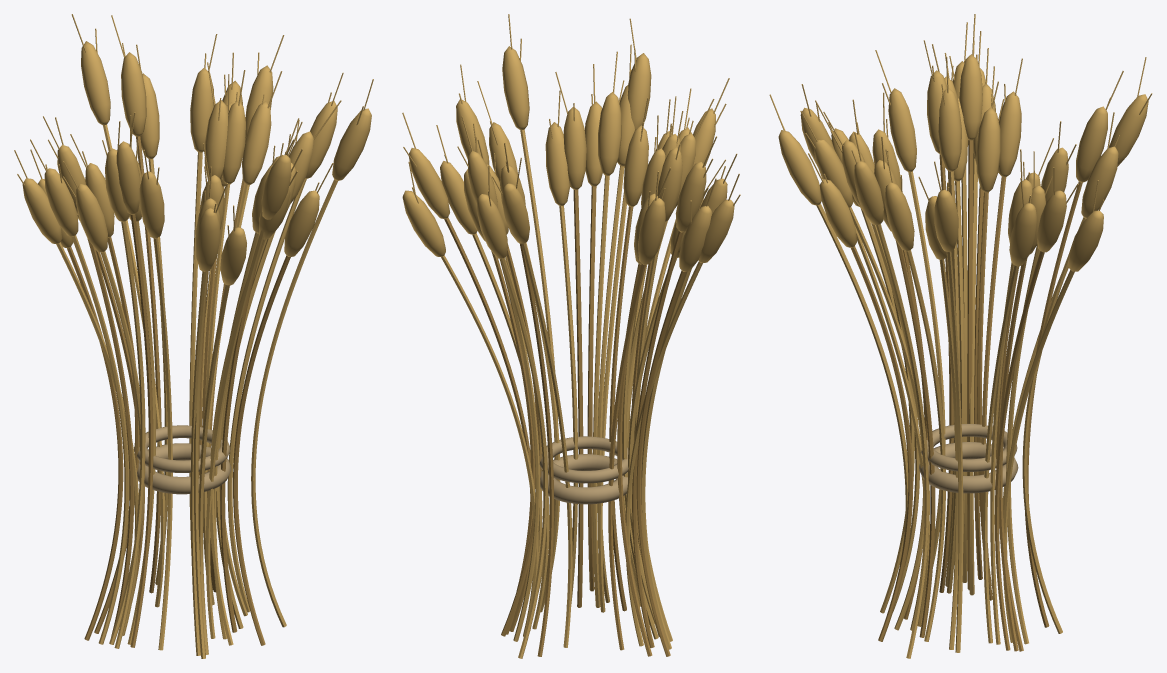
The model's file is wheat.glb.
3 views of the same model, side by side, from view 1: azimuth 30°, elevation 25°; view 2: azimuth 150°, elevation 25°; view 3: azimuth 270°, elevation 25° (orthographic). The views are drawn at different scales.
Parts seen in each view (by area): view 1: stalk.028, stalk.019, stalk.025, stalk.002, stalk.015, stalk.021, stalk.023, stalk.001, stalk.006, stalk.018, tie, stalk.020 (+45 smaller); view 2: stalk.014, stalk.018, tie, stalk.012, stalk.006, stalk.010, stalk.027, stalk.013, stalk.021, stalk.030, stalk.031, tie2 (+45 smaller); view 3: stalk.028, stalk.021, stalk.025, stalk.027, stalk.009, stalk.004, tie, stalk.014, stalk.022, stalk.011, stalk.006, stalk.016 (+47 smaller).
Boxes of the visible parts, <box> form: stalk.028: <box>251,179,337,627</box>; stalk.019: <box>114,221,145,648</box>; stalk.025: <box>227,179,306,612</box>; stalk.002: <box>71,235,129,644</box>; stalk.015: <box>130,214,153,647</box>; stalk.021: <box>233,255,290,645</box>; stalk.023: <box>205,229,264,638</box>; stalk.001: <box>153,238,172,650</box>; stalk.006: <box>87,239,134,636</box>; stalk.018: <box>67,247,123,640</box>; tie: <box>137,443,231,494</box>; stalk.020: <box>190,271,206,655</box>; stalk.014: <box>500,257,547,658</box>; stalk.018: <box>636,270,685,656</box>; tie: <box>540,454,627,504</box>; stalk.012: <box>520,243,554,656</box>; stalk.006: <box>632,231,683,647</box>; stalk.010: <box>592,175,609,607</box>; stalk.027: <box>573,190,583,607</box>; stalk.013: <box>521,242,572,647</box>; stalk.021: <box>587,186,596,591</box>; stalk.030: <box>608,264,645,650</box>; stalk.031: <box>502,264,540,641</box>; tie2: <box>539,436,628,483</box>; stalk.028: <box>876,224,928,658</box>; stalk.021: <box>851,246,913,641</box>; stalk.025: <box>946,251,963,652</box>; stalk.027: <box>895,240,935,637</box>; stalk.009: <box>994,251,1044,650</box>; stalk.004: <box>906,250,945,641</box>; tie: <box>919,441,1018,493</box>; stalk.014: <box>1022,217,1085,633</box>; stalk.022: <box>983,265,1018,643</box>; stalk.011: <box>849,207,924,630</box>; stalk.006: <box>967,140,973,590</box>; stalk.016: <box>816,204,908,556</box>.
Size of the model in its own units: 1.15 by 1.98 by 1.23.
